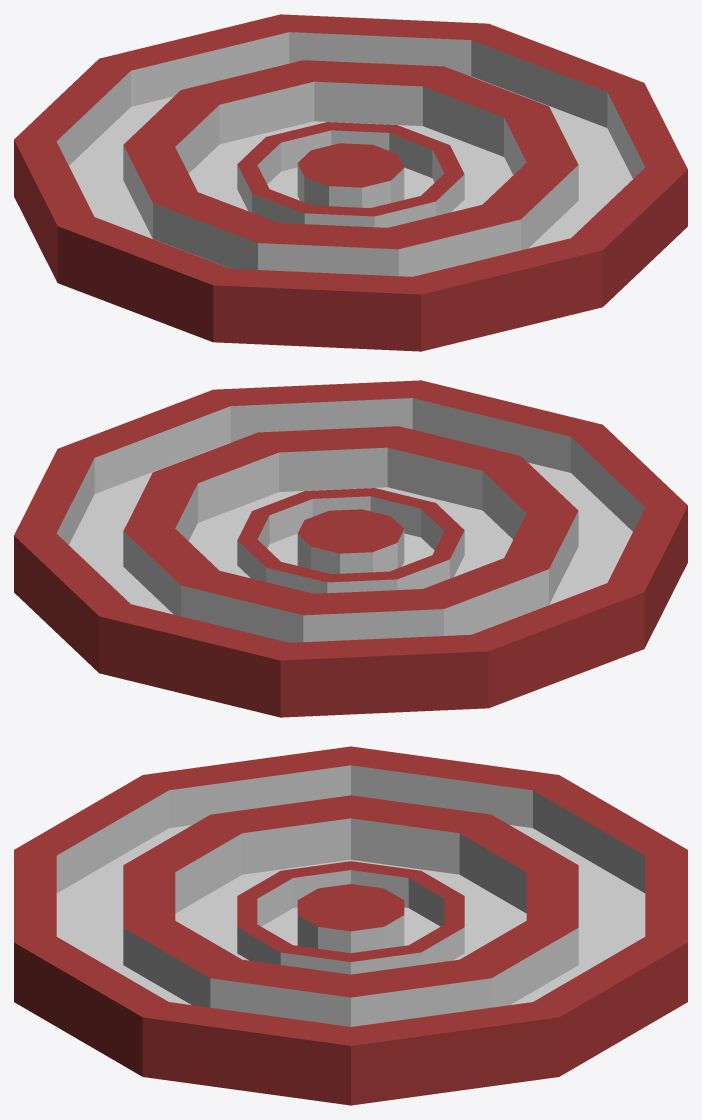
File: target.fbx
3 renders of one model, top to bottom at view 1: azimuth 30°, elevation 25°; view 2: azimuth 150°, elevation 25°; view 3: azimuth 270°, elevation 25°, orthographic. The views are drawn at different scales.
Parts seen in each view (by area): view 1: pCylinder1; view 2: pCylinder1; view 3: pCylinder1.
Part boxes in pixels (x1,y1,x2,y2): pCylinder1: [14, 14, 687, 351]; pCylinder1: [14, 380, 687, 717]; pCylinder1: [14, 746, 687, 1105].
Bounding box in the file's own units: 2 × 0.1858 × 1.9.
